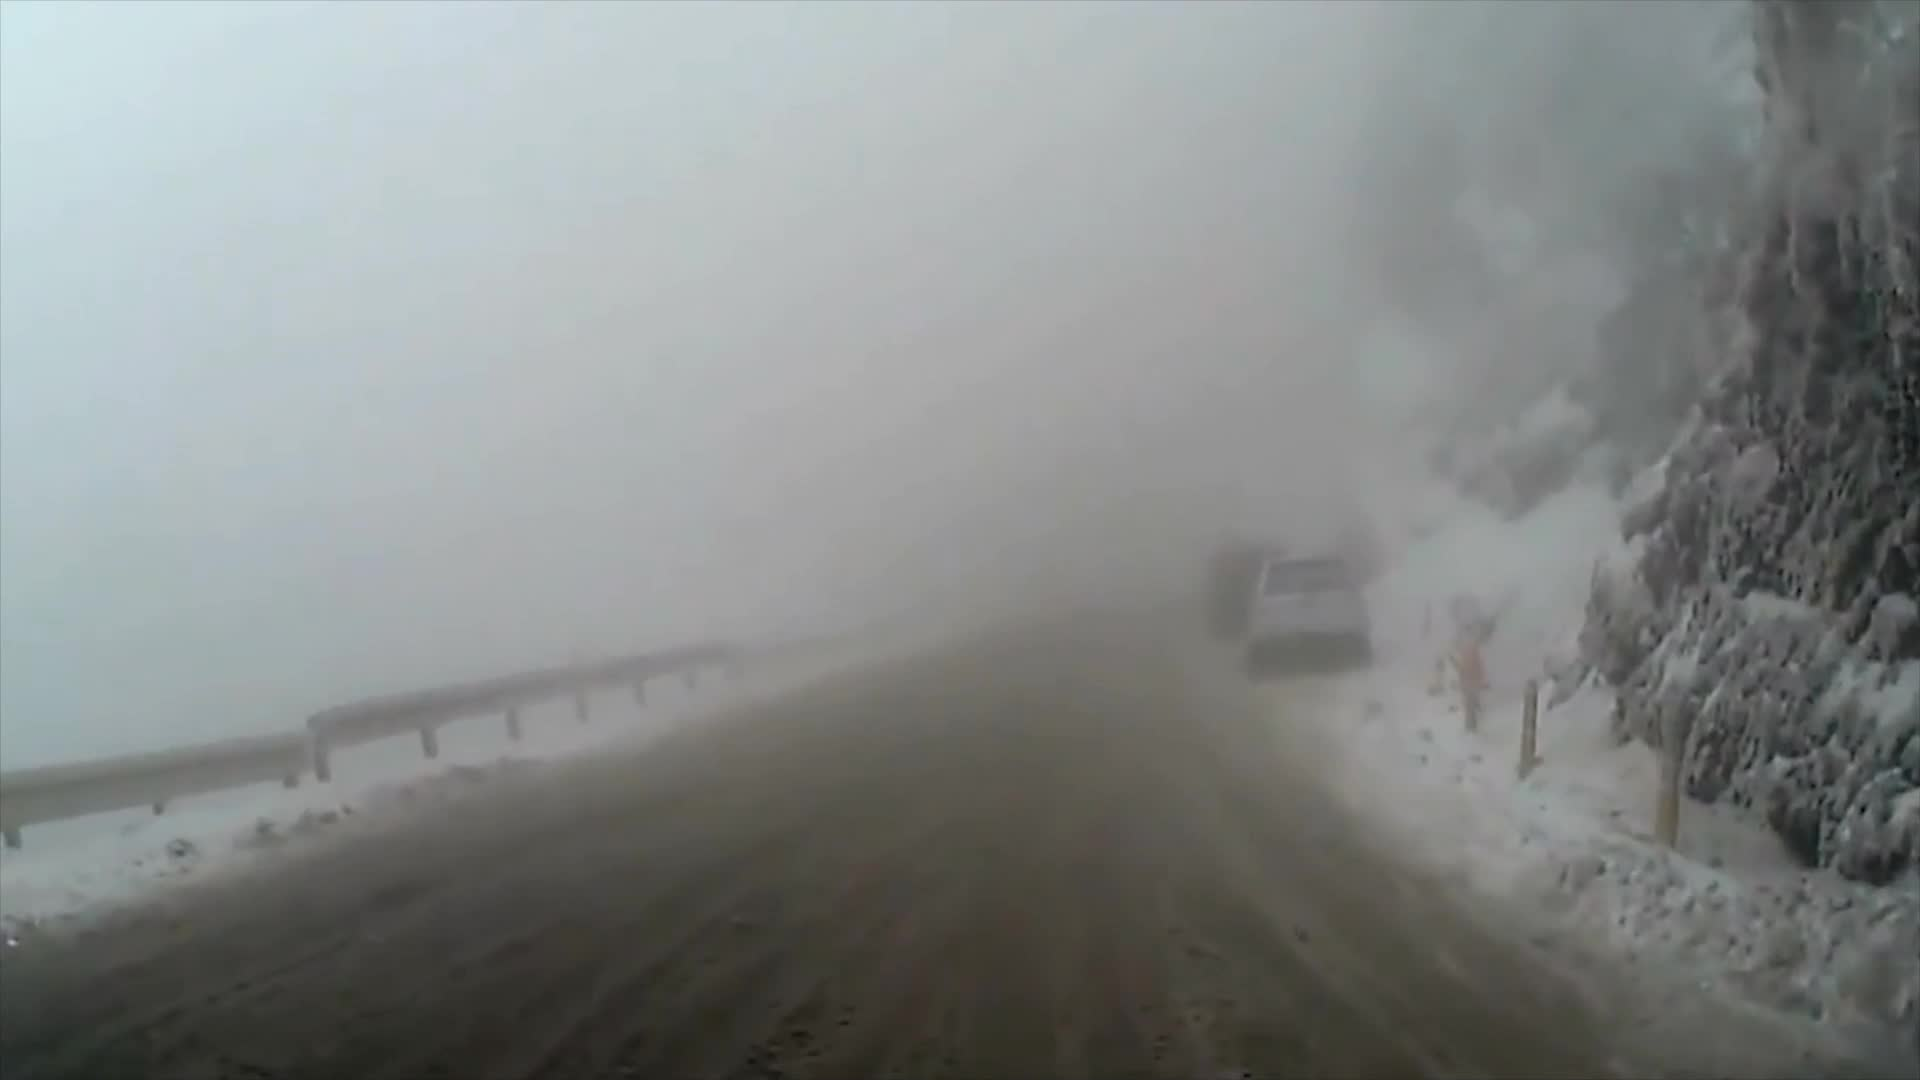vehicle: (1244, 549, 1371, 673), (1201, 543, 1313, 644)
